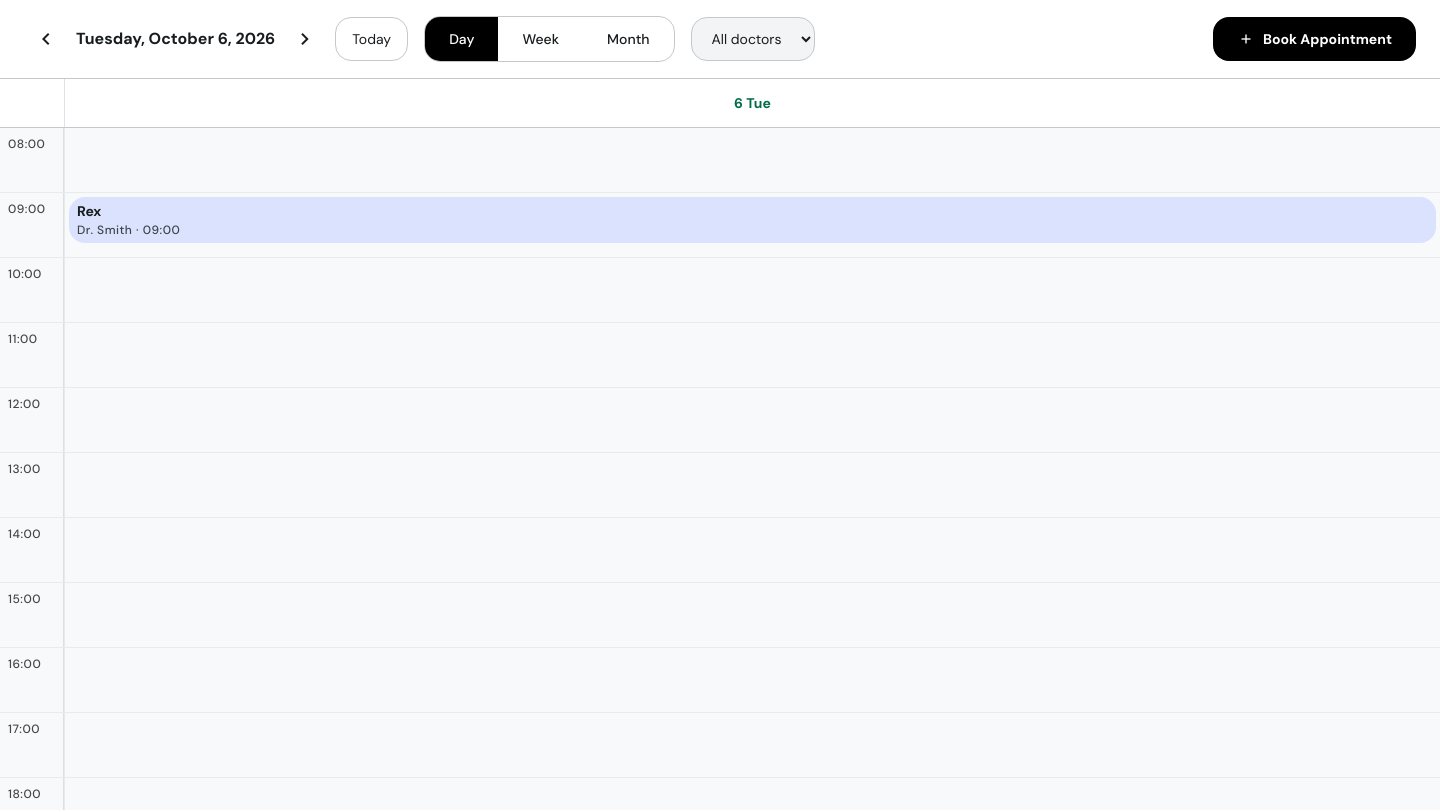
Test: ClinicAppointments — AppointmentDetail for doctor (appointments.view only, read-only) › read-only does not break dismissal — the close (X) control still works
Click the text "Rex" at (89, 211), box [77, 202, 101, 220]
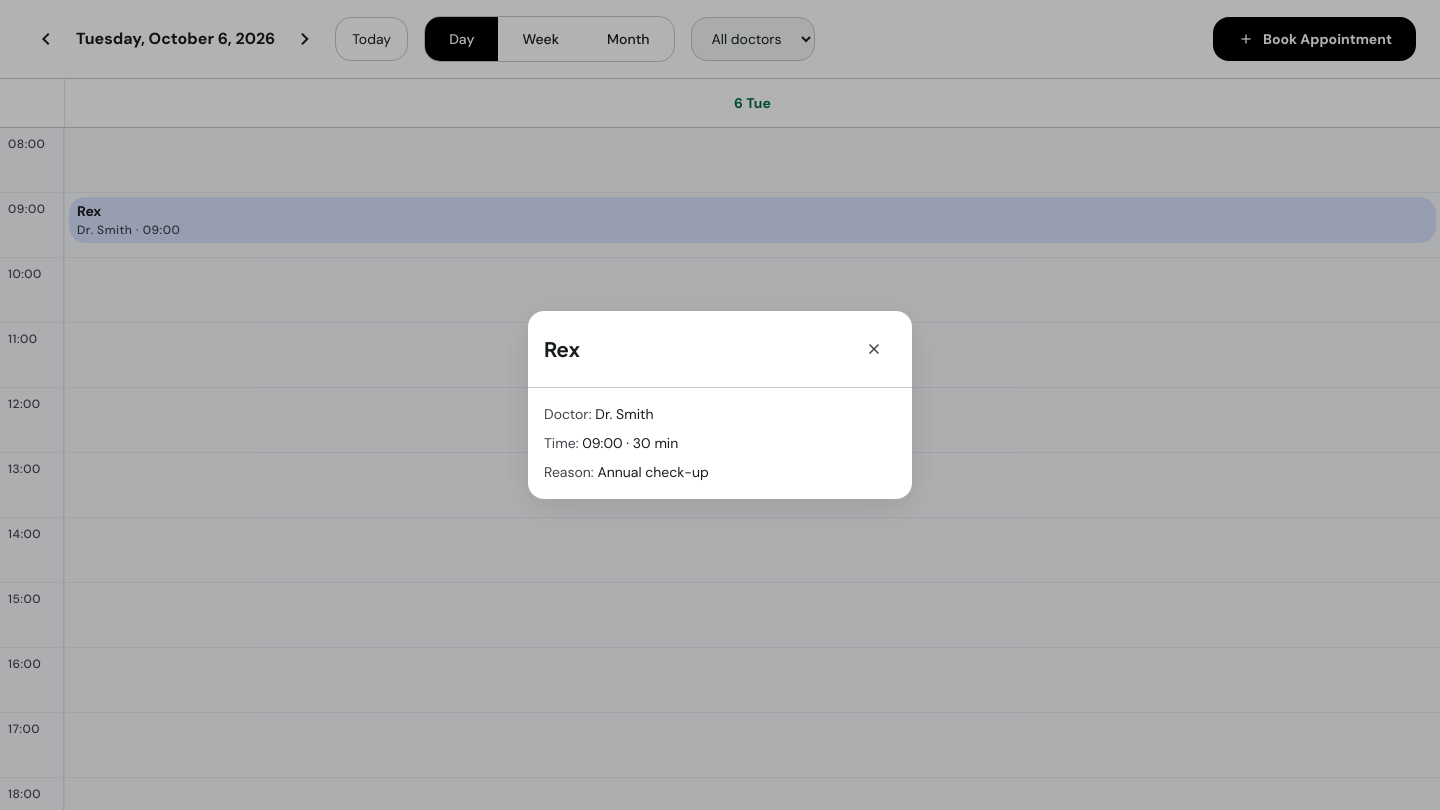
Click the button named "Close dialog" at (874, 349), box [852, 327, 896, 371]
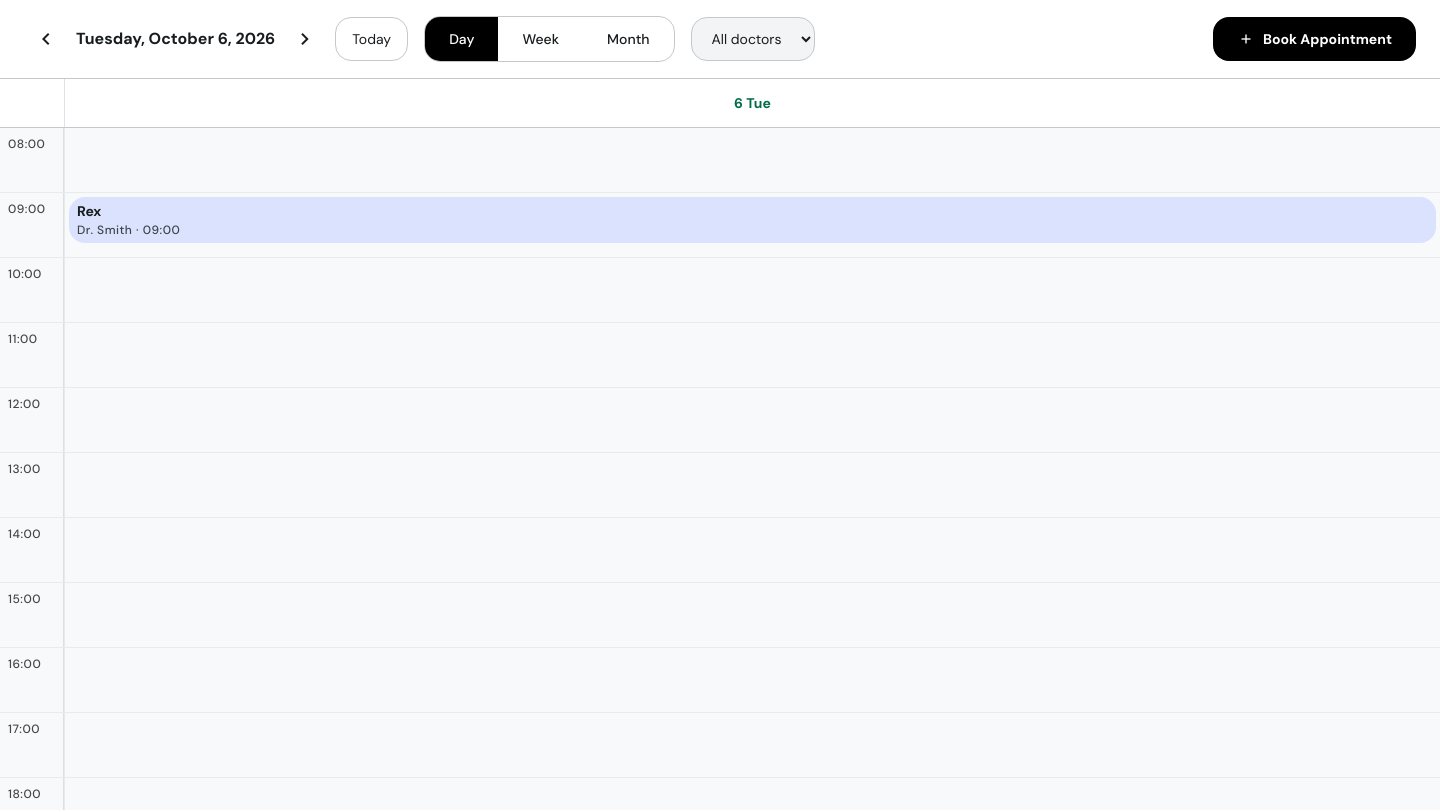
Check: the dialog is gone
